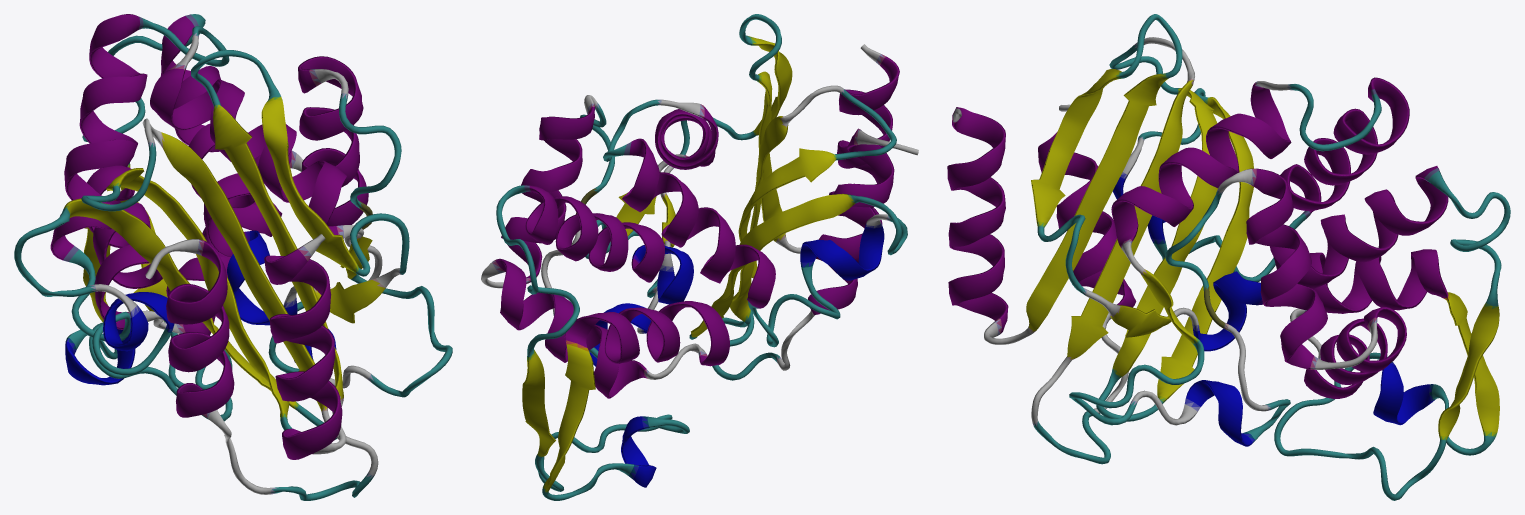
Rendered from animate.0026.obj.
3 renders of one model, left to right at view 1: azimuth 30°, elevation 25°; view 2: azimuth 150°, elevation 25°; view 3: azimuth 270°, elevation 25°, orthographic. The views are drawn at different scales.
Visible parts, largest first — view 1: vmd_mol0_rep0; view 2: vmd_mol0_rep0; view 3: vmd_mol0_rep0.
Part boxes in pixels (x1,y1,x2,y2): vmd_mol0_rep0: (14, 14, 452, 500); vmd_mol0_rep0: (481, 14, 918, 500); vmd_mol0_rep0: (947, 14, 1510, 500).
Size of the model in its own units: 1.01 by 1.12 by 1.32.
